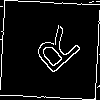R: (25, 25, 83, 82)
